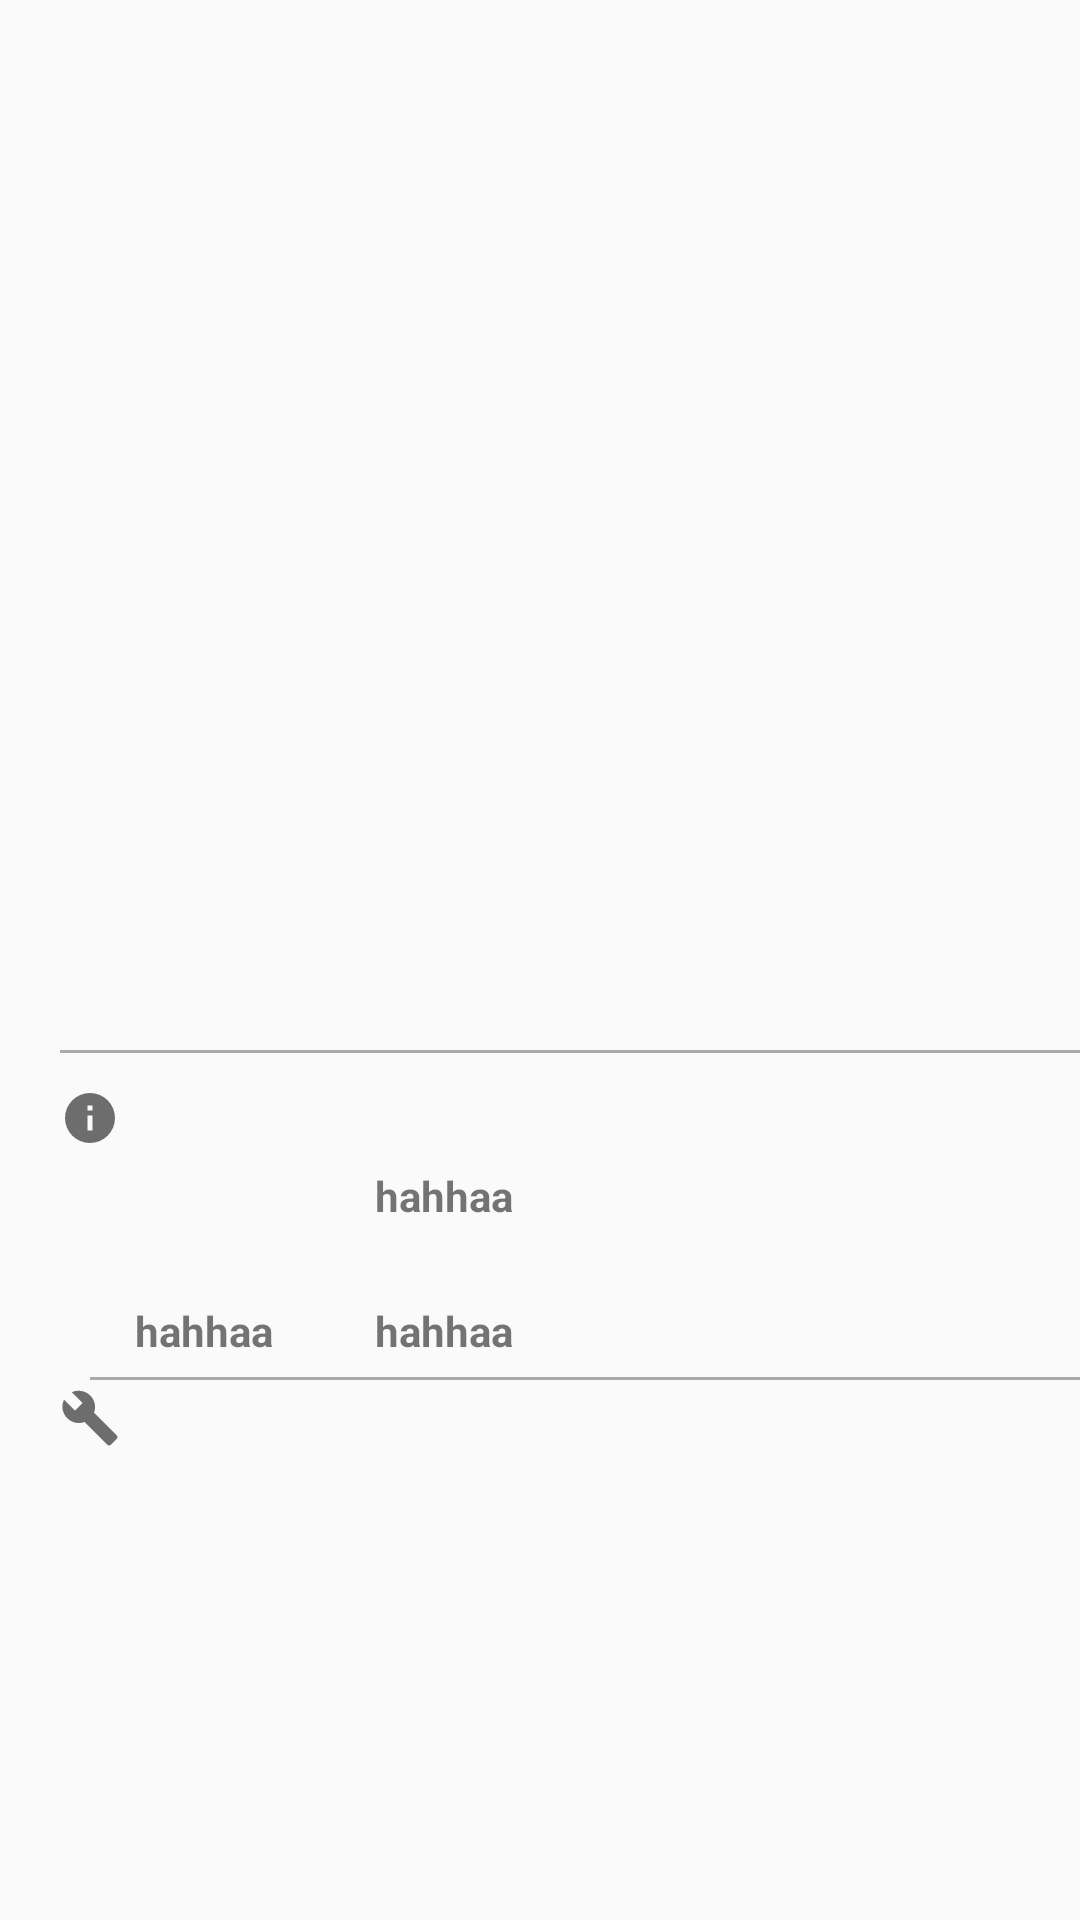

Icons on this 1080*1920 Android screen, each with the point to tap as (x=x, y=y):
information: (x=90, y=1118)
wrench: (x=90, y=1418)
